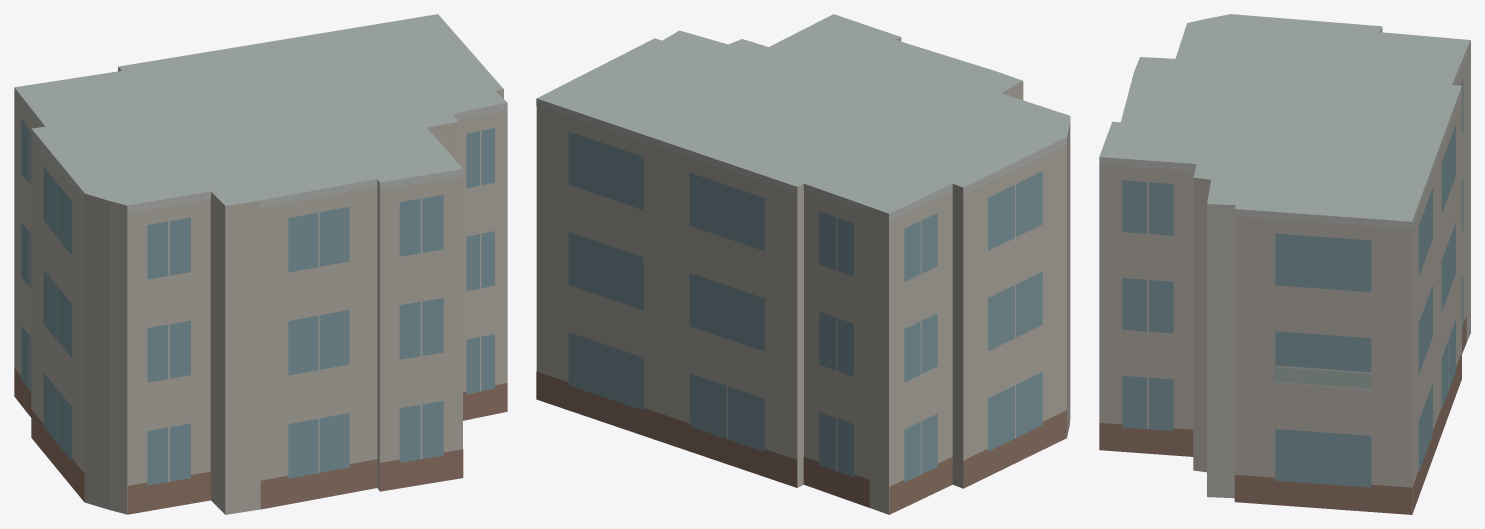
File: survey-upis-32824516.glb
3 renders of one model, left to right at view 1: azimuth 30°, elevation 25°; view 2: azimuth 150°, elevation 25°; view 3: azimuth 270°, elevation 25°, orthographic. The views are drawn at different scales.
Parts seen in each view (by area): view 1: survey-upis-32824516.tmp; view 2: survey-upis-32824516.tmp; view 3: survey-upis-32824516.tmp.
Boxes of the visible parts, x1,y1,x2,y2 form: survey-upis-32824516.tmp: (14, 14, 507, 514); survey-upis-32824516.tmp: (536, 14, 1070, 514); survey-upis-32824516.tmp: (1099, 14, 1470, 514).
Size of the model in its own units: 14.91 by 9.8 by 11.27.
